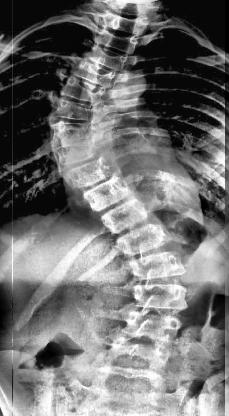Vertebrae: (129, 248, 190, 282), (120, 222, 172, 258), (121, 308, 183, 338), (115, 334, 169, 368), (100, 202, 152, 234), (83, 180, 133, 212), (136, 281, 188, 311), (60, 76, 108, 106), (66, 160, 116, 188), (56, 144, 104, 170), (54, 98, 100, 124), (74, 60, 116, 86), (52, 119, 98, 142), (86, 43, 130, 67), (102, 12, 150, 34), (99, 29, 141, 51)
